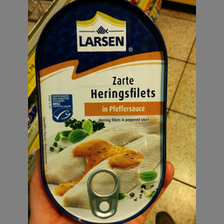fish: (36, 1, 168, 224)
